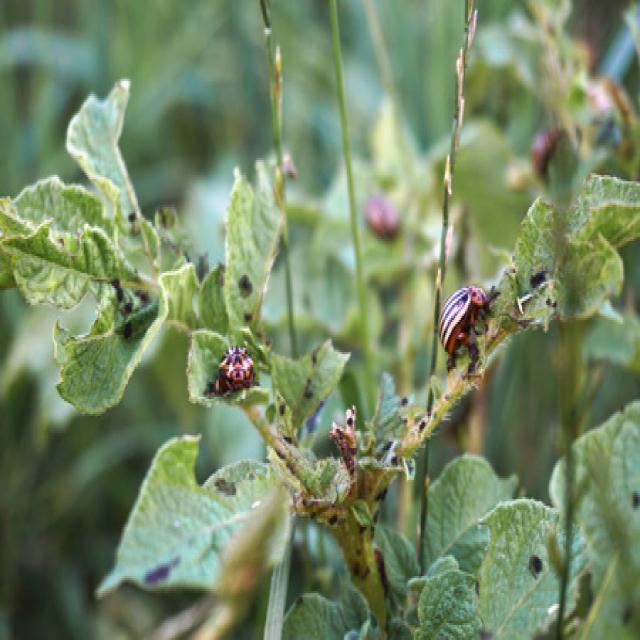ShuCaiHuaBanChong-Grown-: (416, 278, 511, 374)
